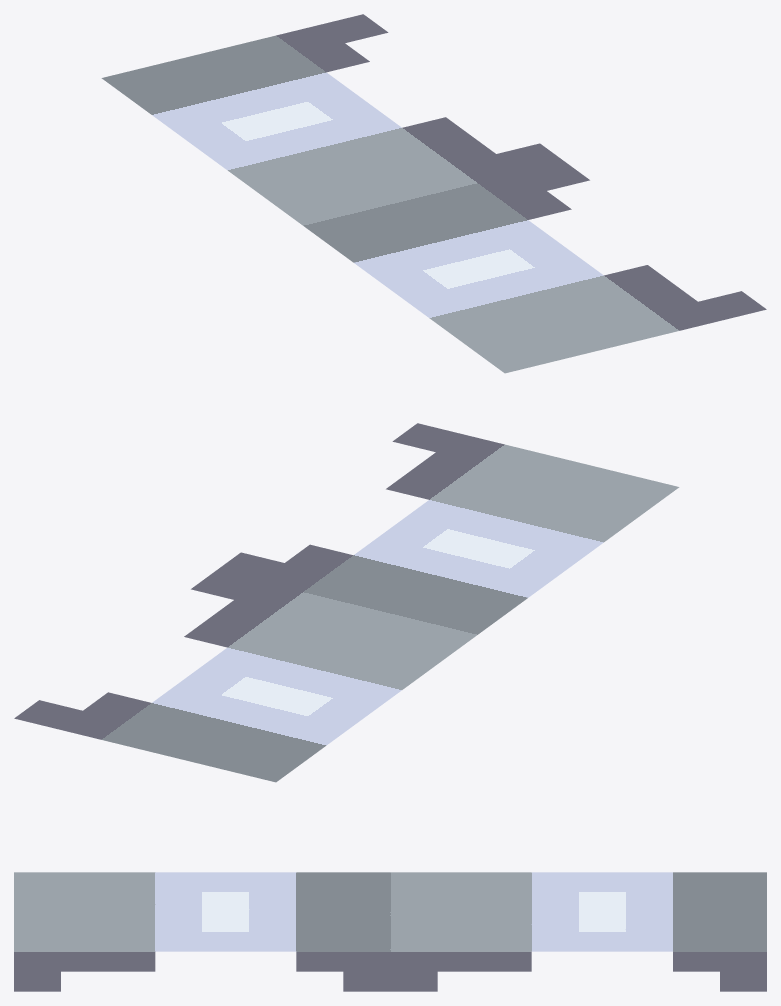
3 renders of one model, top to bottom at view 1: azimuth 30°, elevation 25°; view 2: azimuth 150°, elevation 25°; view 3: azimuth 270°, elevation 25°, orthographic. The views are drawn at different scales.
Size of the model in its own units: 0.5 by 0 by 1.
Materials: 1 (1 with a texture image).
